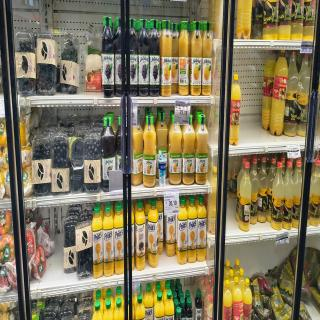Juice: (167, 112, 184, 186), (101, 15, 115, 99), (113, 16, 126, 100), (128, 16, 141, 100), (137, 16, 150, 100), (148, 15, 161, 99), (160, 14, 173, 98), (101, 208, 116, 280), (195, 112, 209, 187), (143, 112, 157, 184), (179, 16, 190, 96), (202, 17, 212, 97), (192, 16, 202, 94), (148, 199, 159, 259), (188, 199, 198, 263)
fruit: (14, 30, 36, 94), (31, 132, 52, 198), (35, 31, 56, 94), (59, 30, 79, 93), (83, 132, 101, 193), (50, 133, 68, 192), (76, 220, 93, 279), (62, 217, 76, 274), (69, 132, 84, 167), (68, 164, 84, 195), (44, 301, 58, 318), (61, 302, 74, 320)
